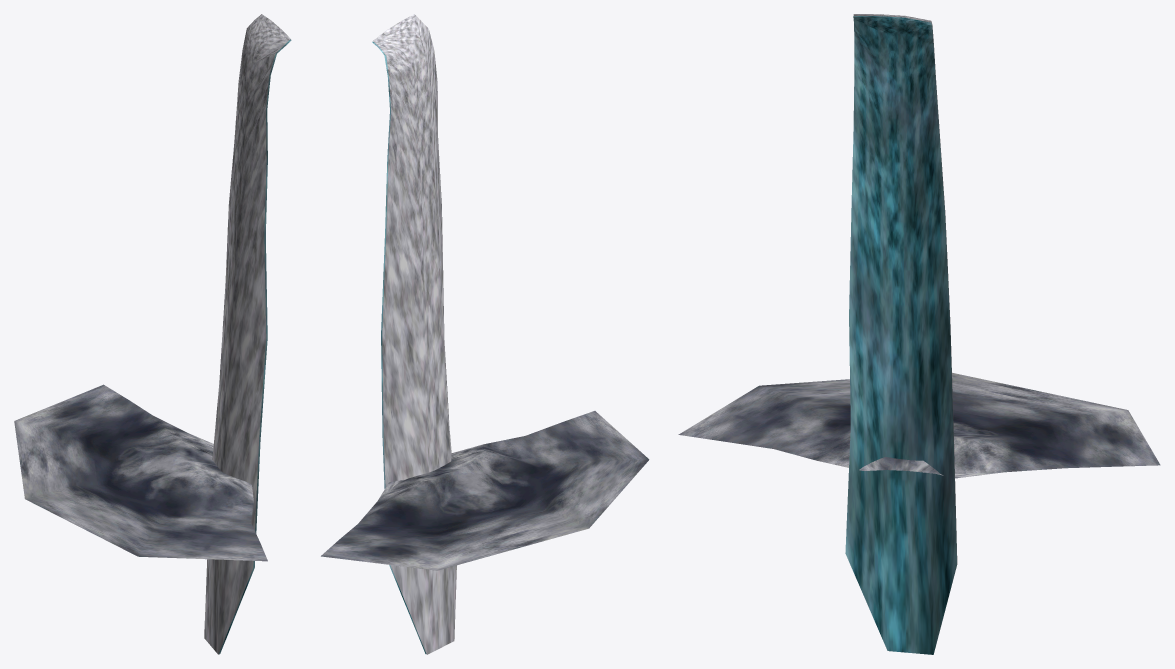
File: EKH_ENTRANCE_PS_EN_WATERFALLS4746.fbx
The picture shows the model from 3 angles, left to right: view 1: azimuth 30°, elevation 25°; view 2: azimuth 150°, elevation 25°; view 3: azimuth 270°, elevation 25°; orthographic projection. The views are drawn at different scales.
Visible parts, largest first — view 1: EKH_ENTRANCE_PS_EN_WATERFALLS4746; view 2: EKH_ENTRANCE_PS_EN_WATERFALLS4746; view 3: EKH_ENTRANCE_PS_EN_WATERFALLS4746.
Boxes of the visible parts, left/top/right/bottom form: EKH_ENTRANCE_PS_EN_WATERFALLS4746: left=14, top=14, right=291, bottom=654; EKH_ENTRANCE_PS_EN_WATERFALLS4746: left=321, top=14, right=649, bottom=654; EKH_ENTRANCE_PS_EN_WATERFALLS4746: left=678, top=14, right=1160, bottom=654.
Size of the model in its own units: 106211 by 271961 by 178163.
3 materials, 3 textured.
